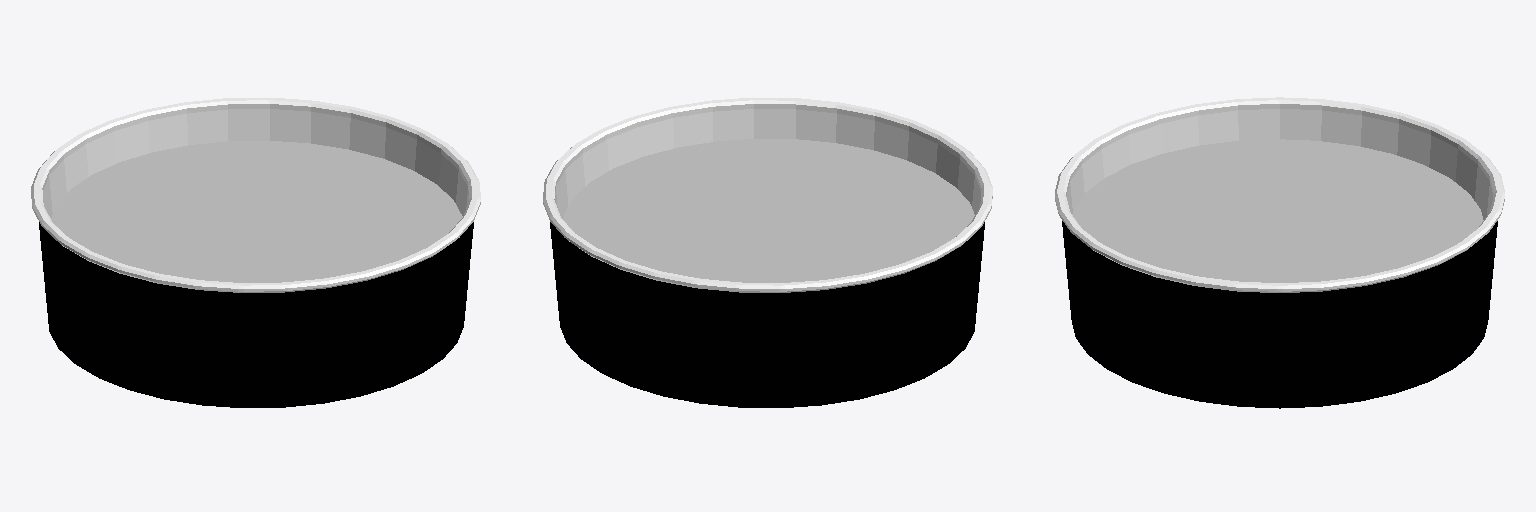
The model's file is nomad.obj.
The picture shows the model from 3 angles: view 1: azimuth 30°, elevation 25°; view 2: azimuth 150°, elevation 25°; view 3: azimuth 270°, elevation 25°; orthographic projection.
Parts seen in each view (by area): view 1: Circle, Circle.001; view 2: Circle, Circle.001; view 3: Circle, Circle.001.
Part boxes in pixels (left/top/right/bottom): Circle: left=31, top=98, right=480, bottom=407; Circle.001: left=51, top=141, right=462, bottom=282; Circle: left=543, top=98, right=992, bottom=407; Circle.001: left=563, top=139, right=974, bottom=282; Circle: left=1055, top=97, right=1504, bottom=408; Circle.001: left=1072, top=139, right=1483, bottom=282.
Bounding box in the file's own units: 2.01 × 0.6337 × 2.01.